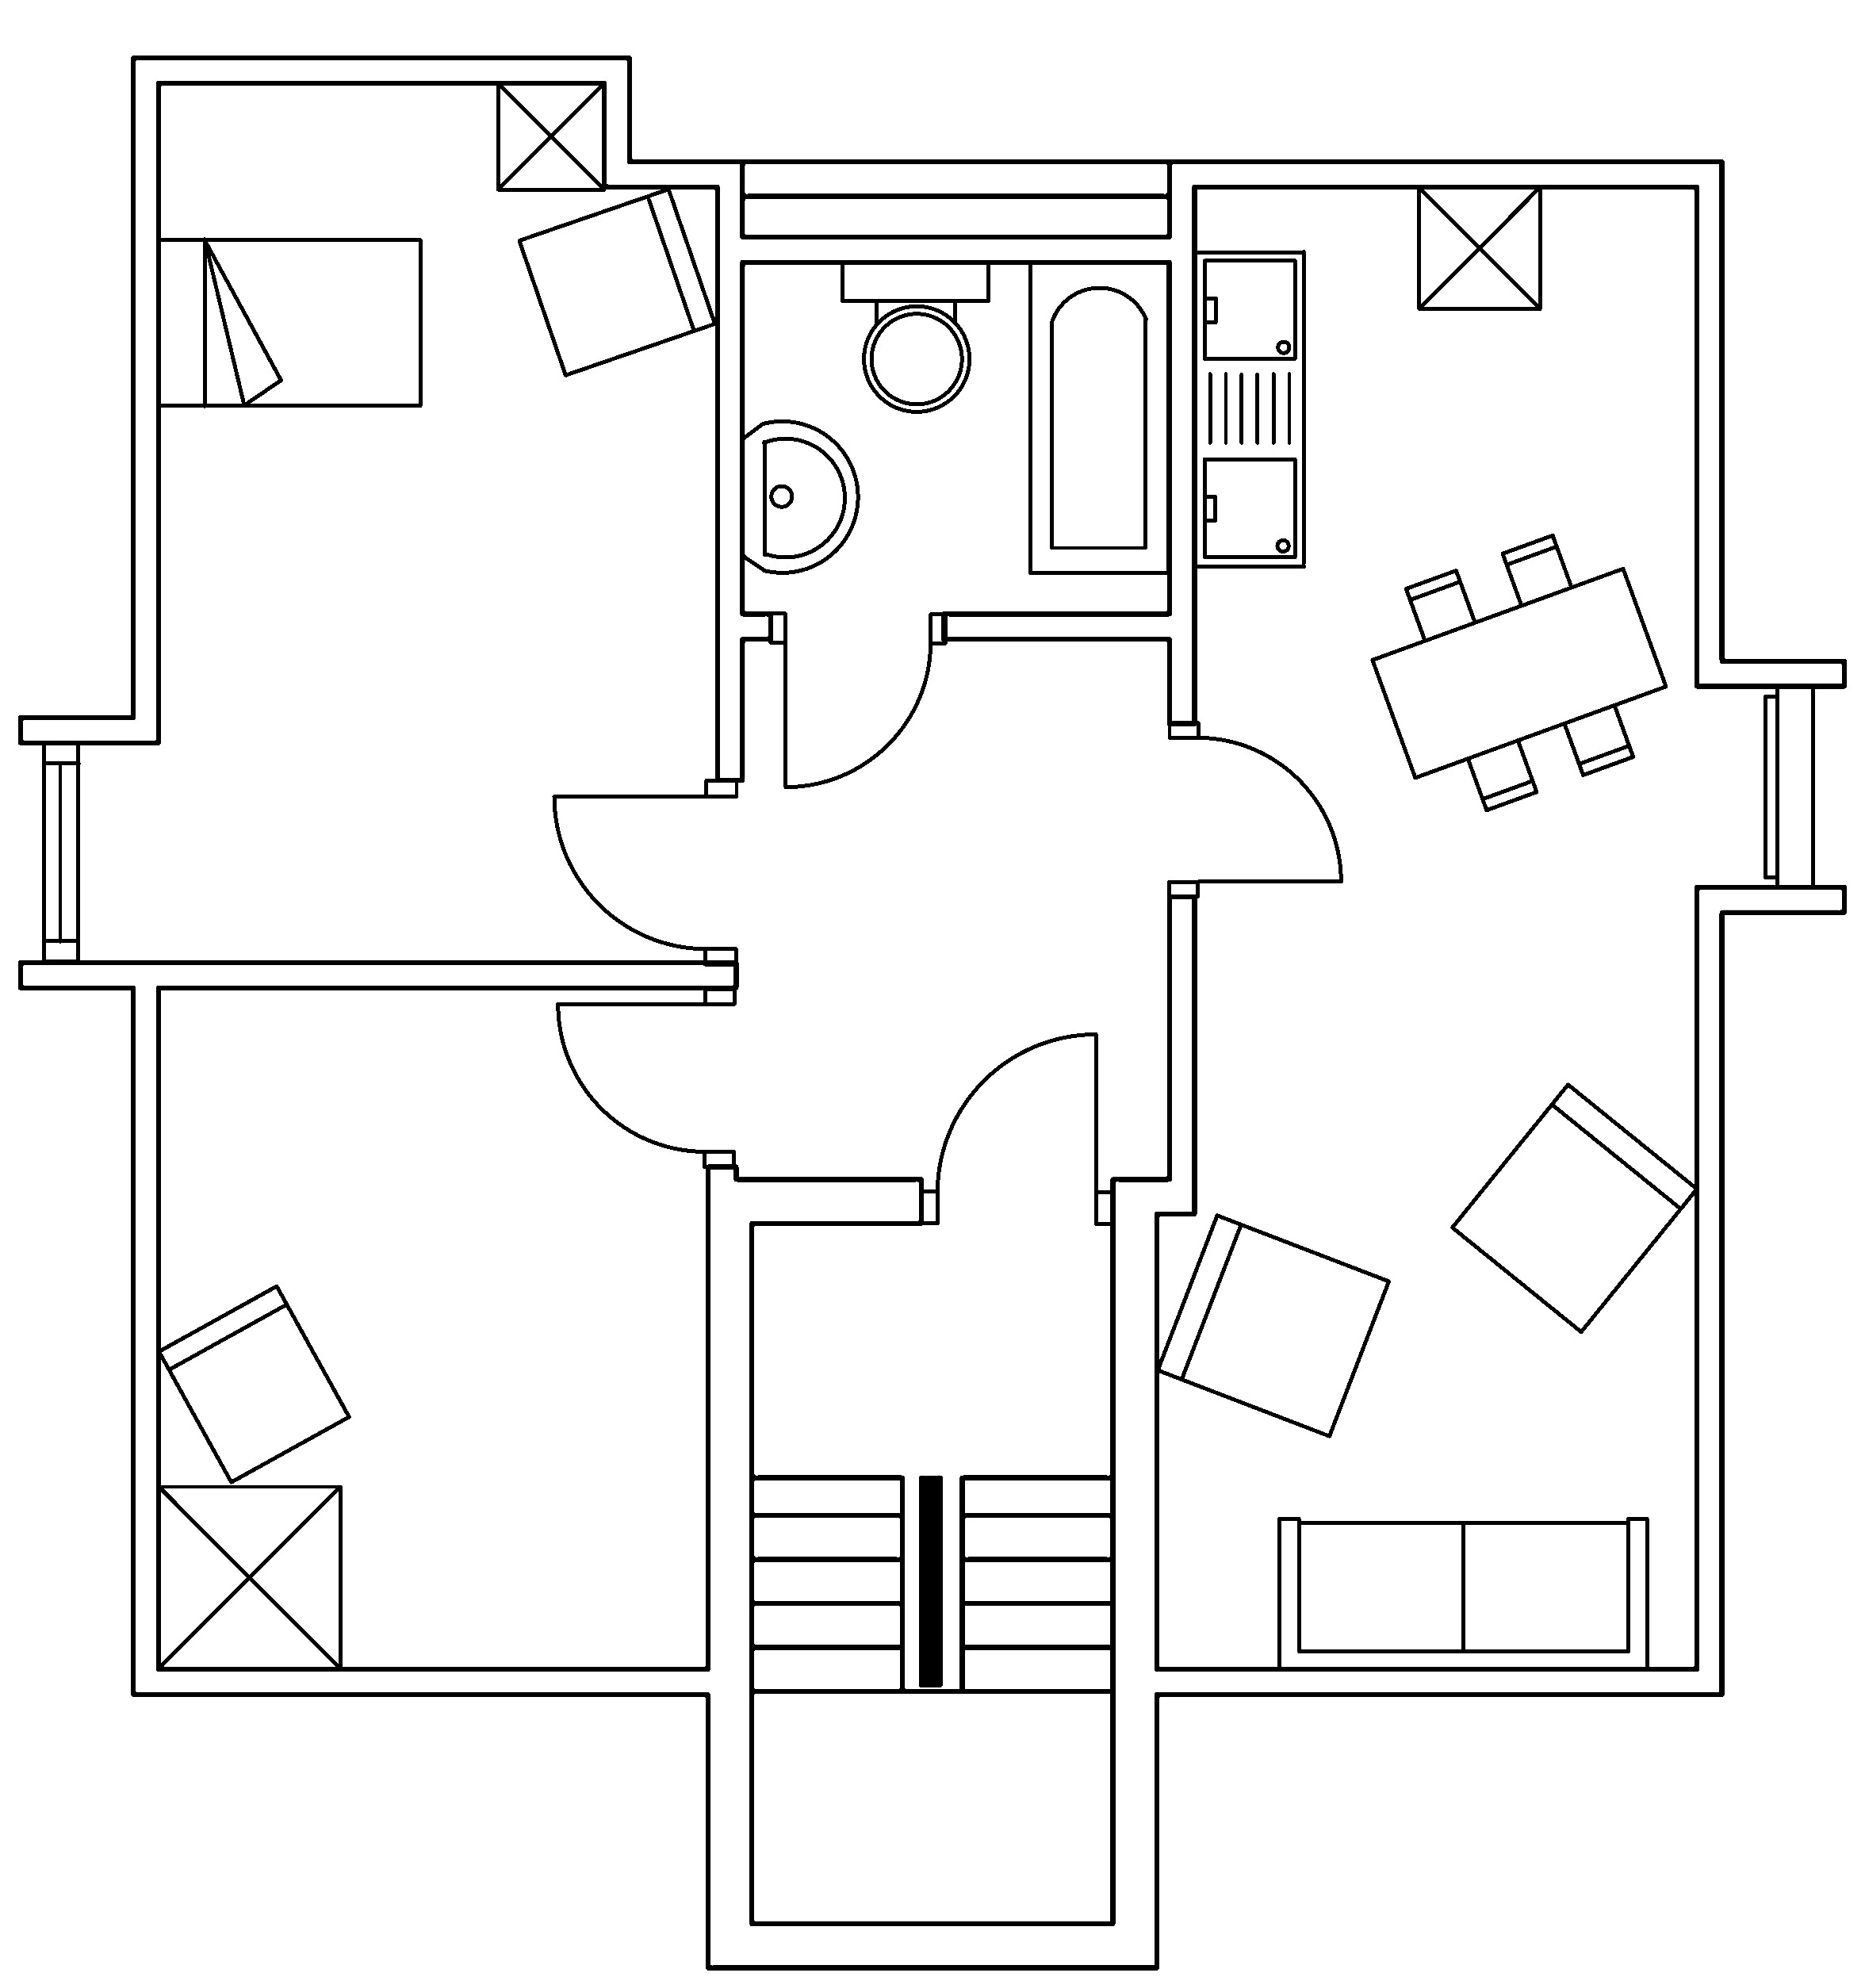bed: (154, 235, 422, 408)
coffee_table: (154, 1481, 342, 1671), (1416, 182, 1542, 310), (494, 79, 606, 191)
dining_table: (1369, 531, 1669, 813)
large_sink: (840, 258, 990, 412)
large_sofa: (1276, 1515, 1649, 1672)
small_sink: (740, 419, 859, 573)
small_sofa: (1448, 1082, 1698, 1334), (1153, 1211, 1392, 1439), (156, 1282, 351, 1485), (515, 186, 717, 377)
tub: (1027, 258, 1171, 575)
twin_sink: (1192, 247, 1308, 570)
